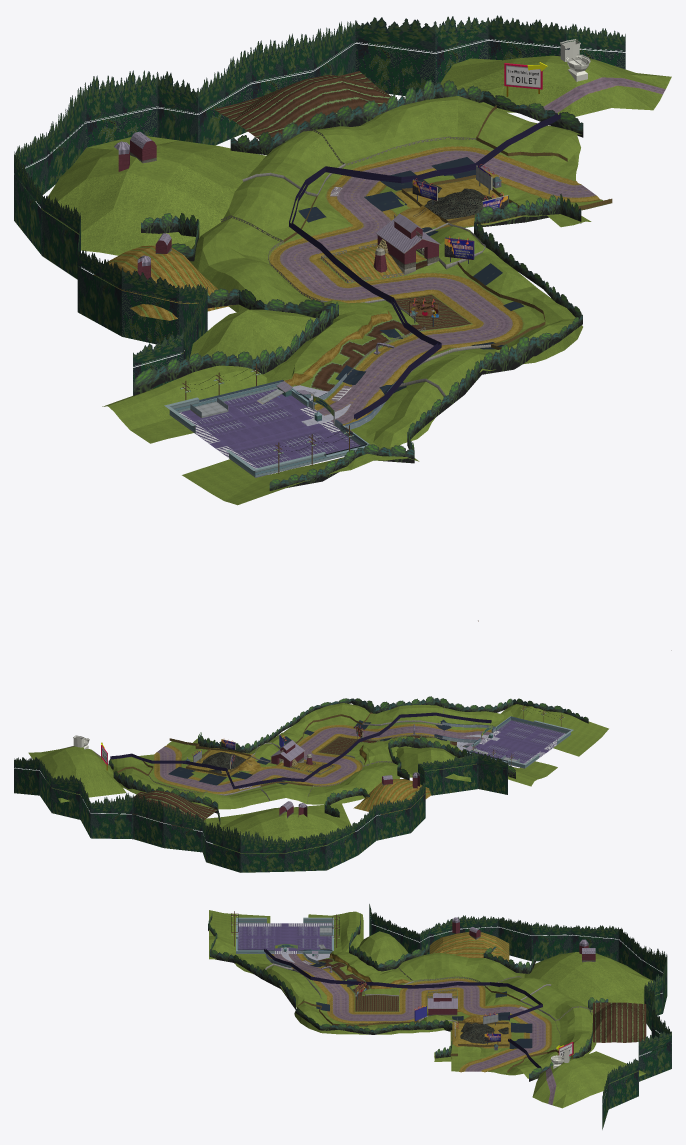
3 renders of one model, top to bottom at view 1: azimuth 30°, elevation 25°; view 2: azimuth 150°, elevation 25°; view 3: azimuth 270°, elevation 25°, orthographic. The views are drawn at different scales.
Visible parts, largest first — view 1: l01_fencelinesShape1_014, l01_fencelinesShape1_031, l01_fencelinesShape1_030, common_trackShape1_005, common_trackShape1_001, common_trackShape1_004, common_trackShape1_007, l01_fencelinesShape1_013, l01_fencelinesShape1_026, l01_fencelinesShape1_009, common_trackShape3_002, l01_fencelinesShape1_032 (+14 smaller); view 2: l01_fencelinesShape1_031, l01_fencelinesShape1_014, l01_fencelinesShape1_030, common_trackShape1_001, common_trackShape1_005, common_trackShape1_004, common_trackShape1_007, l01_fencelinesShape1_026, l01_fencelinesShape1_009, l01_fencelinesShape1_013, l01_fencelinesShape1_032, l01_fencelinesShape1_012 (+10 smaller); view 3: l01_fencelinesShape1_014, l01_fencelinesShape1_031, common_trackShape1_001, l01_fencelinesShape1_030, common_trackShape1_005, common_trackShape1_004, l01_fencelinesShape1_013, common_trackShape1_007, l01_fencelinesShape1_009, l01_fencelinesShape1_026, l01_fencelinesShape1_032, common_trackShape3_002 (+11 smaller).
Boxes of the visible parts, left/top/right/bottom form: l01_fencelinesShape1_014: left=41, top=55, right=671, bottom=505; l01_fencelinesShape1_031: left=14, top=15, right=625, bottom=395; l01_fencelinesShape1_030: left=133, top=79, right=583, bottom=490; common_trackShape1_005: left=281, top=151, right=595, bottom=423; common_trackShape1_001: left=268, top=145, right=601, bottom=425; common_trackShape1_004: left=274, top=138, right=602, bottom=434; common_trackShape1_007: left=181, top=388, right=359, bottom=474; l01_fencelinesShape1_013: left=214, top=71, right=390, bottom=139; l01_fencelinesShape1_026: left=289, top=113, right=560, bottom=419; l01_fencelinesShape1_009: left=94, top=245, right=232, bottom=320; common_trackShape3_002: left=263, top=307, right=418, bottom=387; l01_fencelinesShape1_032: left=298, top=157, right=524, bottom=394; l01_fencelinesShape1_031: left=14, top=751, right=507, bottom=872; l01_fencelinesShape1_014: left=28, top=703, right=608, bottom=853; l01_fencelinesShape1_030: left=108, top=696, right=588, bottom=824; common_trackShape1_001: left=153, top=723, right=491, bottom=794; common_trackShape1_005: left=157, top=726, right=491, bottom=791; common_trackShape1_004: left=138, top=711, right=495, bottom=796; common_trackShape1_007: left=472, top=720, right=564, bottom=767; l01_fencelinesShape1_026: left=110, top=712, right=491, bottom=789; l01_fencelinesShape1_009: left=353, top=745, right=431, bottom=814; l01_fencelinesShape1_013: left=131, top=790, right=217, bottom=829; l01_fencelinesShape1_032: left=168, top=719, right=451, bottom=785; l01_fencelinesShape1_012: left=117, top=712, right=372, bottom=786; l01_fencelinesShape1_014: left=209, top=910, right=660, bottom=1108; l01_fencelinesShape1_031: left=369, top=904, right=671, bottom=1129; common_trackShape1_001: left=267, top=954, right=552, bottom=1072; l01_fencelinesShape1_030: left=208, top=913, right=608, bottom=1081; common_trackShape1_005: left=274, top=954, right=544, bottom=1071; common_trackShape1_004: left=259, top=954, right=560, bottom=1075; l01_fencelinesShape1_013: left=593, top=1002, right=646, bottom=1042; common_trackShape1_007: left=238, top=923, right=331, bottom=950; l01_fencelinesShape1_009: left=378, top=932, right=509, bottom=989; l01_fencelinesShape1_026: left=264, top=949, right=542, bottom=1067; l01_fencelinesShape1_032: left=288, top=962, right=532, bottom=1048; common_trackShape3_002: left=321, top=951, right=378, bottom=995.
Bounding box in the file's own units: 527 × 67.54 × 725.
